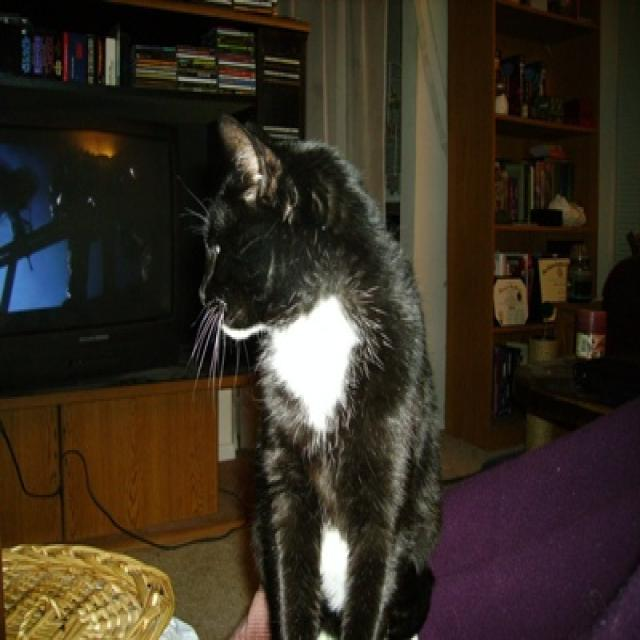cat: (196, 110, 441, 639)
tvmonitor: (1, 108, 185, 383)
